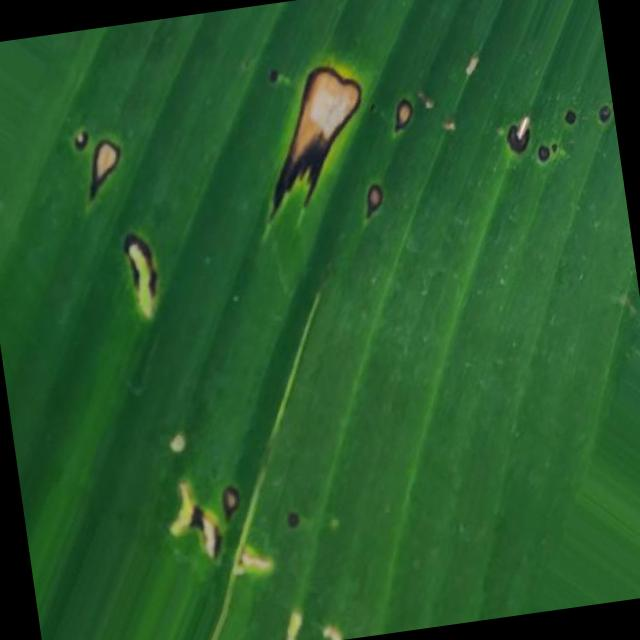Banana_Black_Sigatoka: (255, 1, 626, 244), (140, 401, 367, 597), (49, 92, 192, 356)
